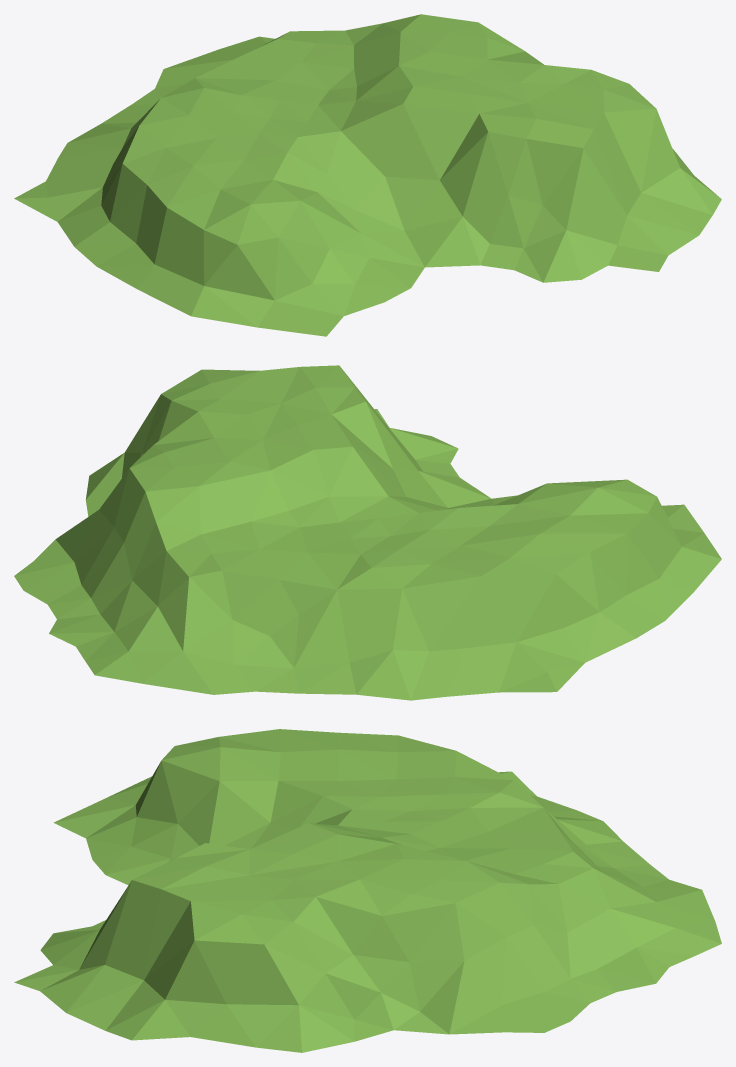
Rendered from MT_Mountain_L_b_16_LOD.fbx.
3 renders of one model, top to bottom at view 1: azimuth 30°, elevation 25°; view 2: azimuth 150°, elevation 25°; view 3: azimuth 270°, elevation 25°, orthographic. The views are drawn at different scales.
Parts seen in each view (by area): view 1: MT_Mountain_L_b_16_LOD0; view 2: MT_Mountain_L_b_16_LOD0; view 3: MT_Mountain_L_b_16_LOD0.
Part boxes in pixels (left/top/right/bottom): MT_Mountain_L_b_16_LOD0: left=14, top=14, right=721, bottom=336; MT_Mountain_L_b_16_LOD0: left=14, top=365, right=721, bottom=700; MT_Mountain_L_b_16_LOD0: left=14, top=729, right=721, bottom=1052.
Size of what is drawn, in the model's own units: 4062 by 675 by 4218.
